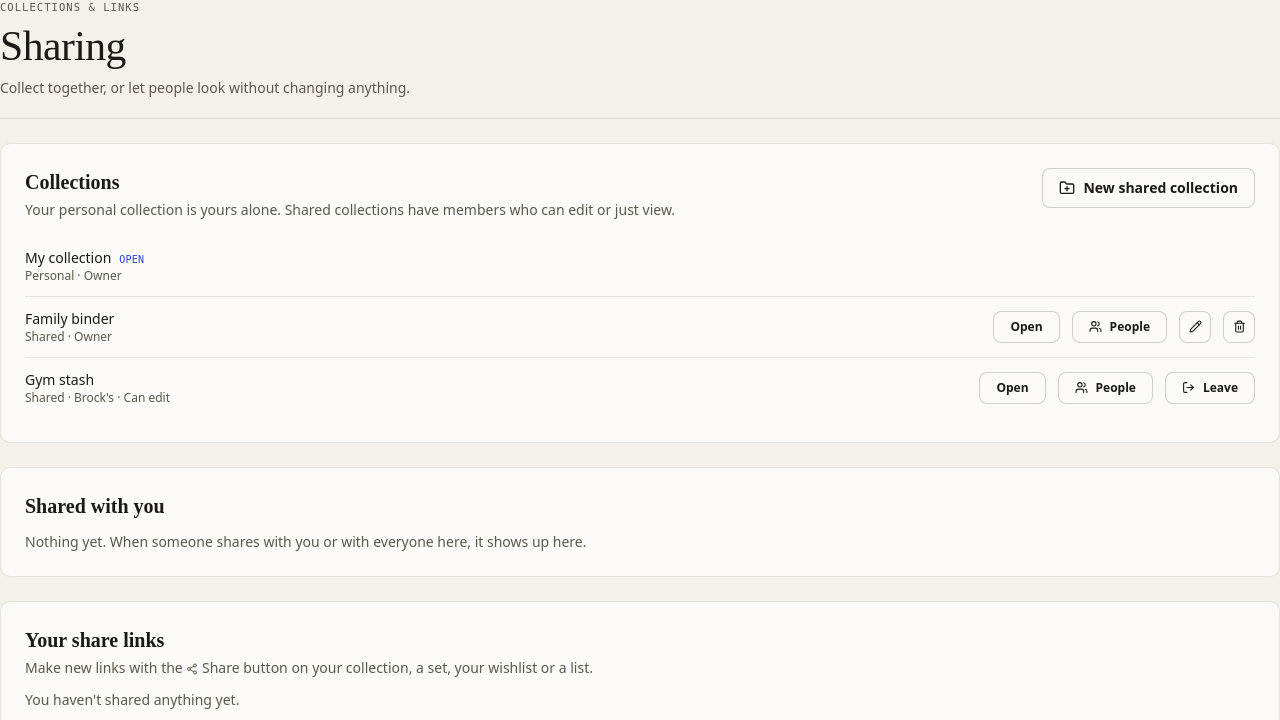
Test: SharingPage collections › creates a shared collection and opens it
Click the button "New shared collection". click: {"x": 1149, "y": 188}
box: left=1042, top=168, right=1255, bottom=208
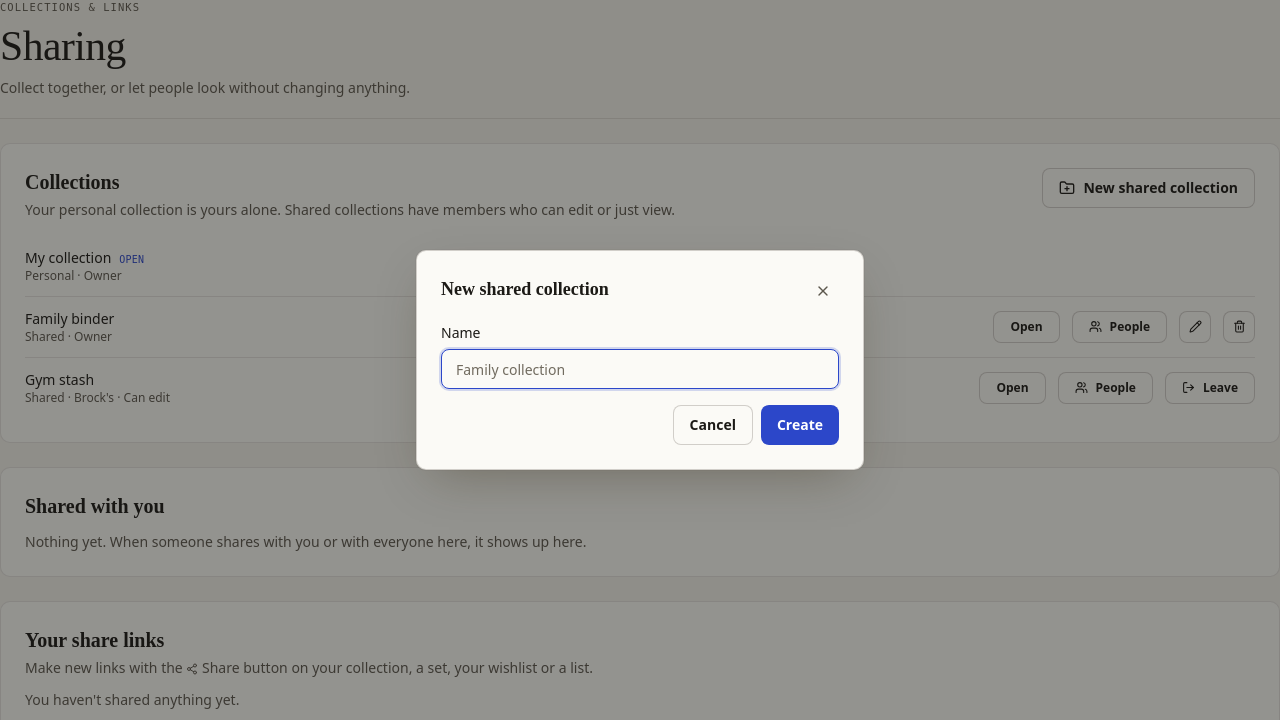
Type "Trades" into the field labelled "Name". click: {"x": 640, "y": 369}
box: left=441, top=349, right=839, bottom=389
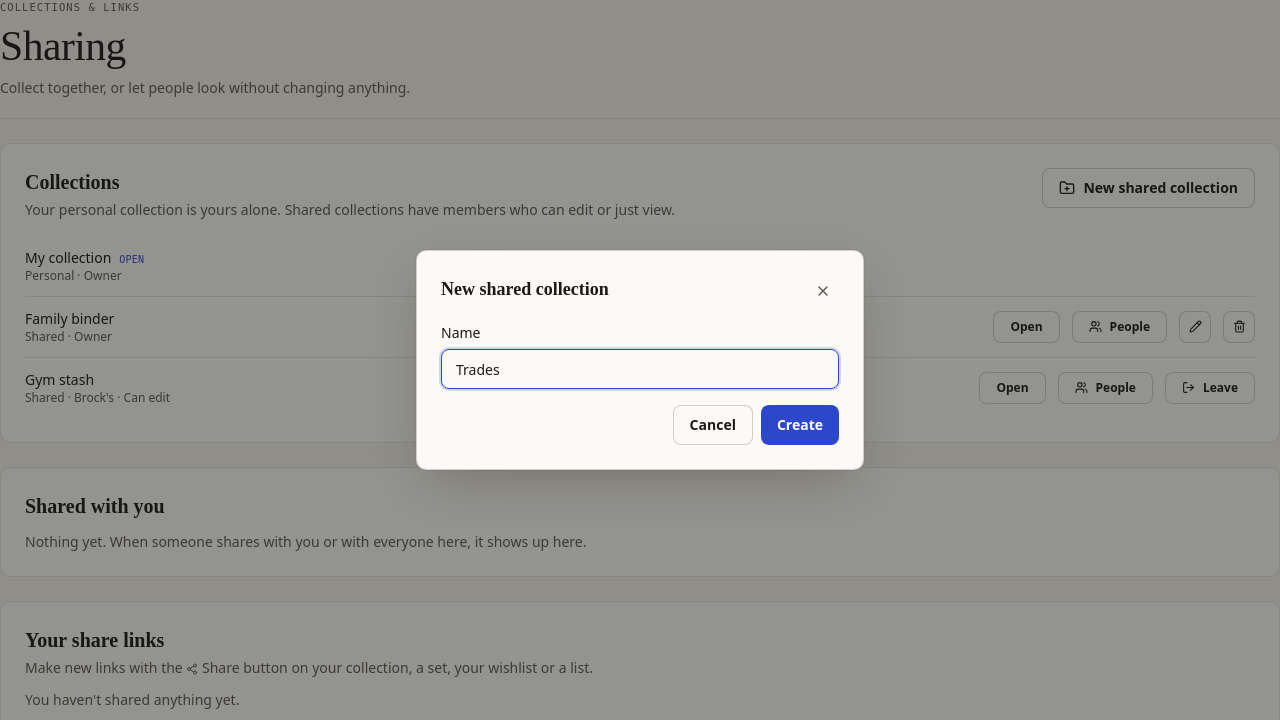
Click the button "Create". click: {"x": 800, "y": 425}
box: left=761, top=405, right=839, bottom=445
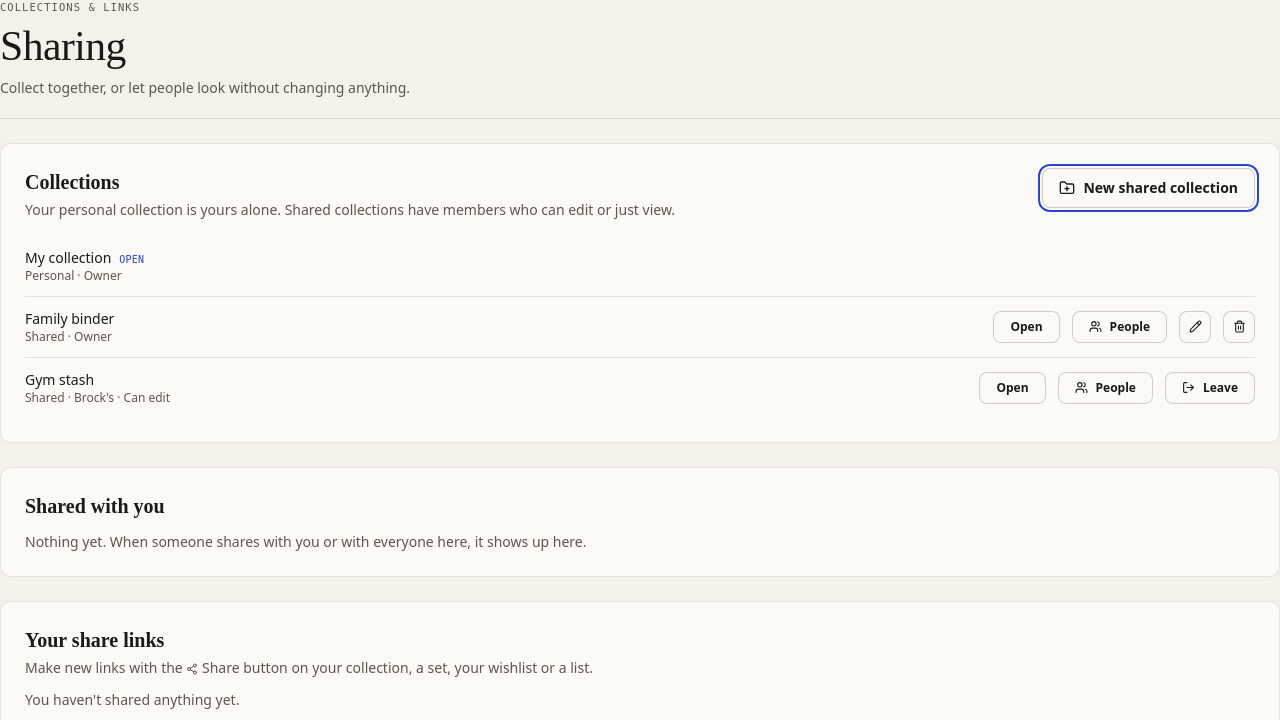
expect the dialog is gone: met
